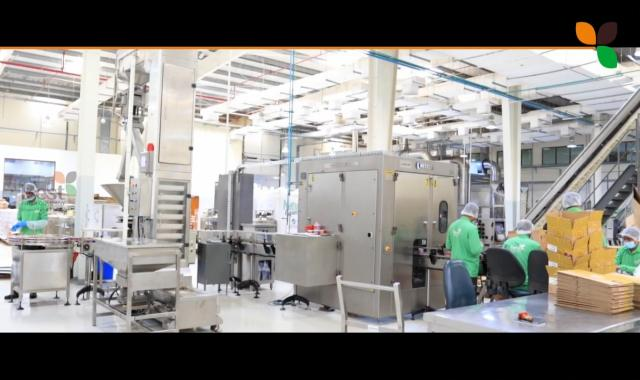hairnet: (560, 189, 580, 211), (621, 225, 640, 245), (462, 202, 478, 220), (516, 218, 532, 236), (23, 180, 37, 195)
